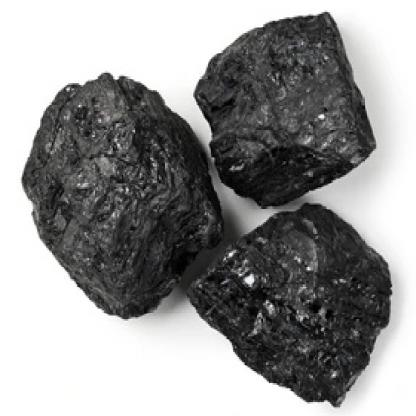Sedimentary_coal: (13, 63, 226, 324), (181, 208, 406, 411), (186, 2, 382, 211)
